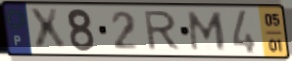2: (110, 10, 140, 52)
4: (231, 8, 258, 56)
8: (65, 7, 97, 53)
M: (187, 10, 228, 53)
R: (143, 10, 183, 53)
X: (26, 7, 69, 52)
